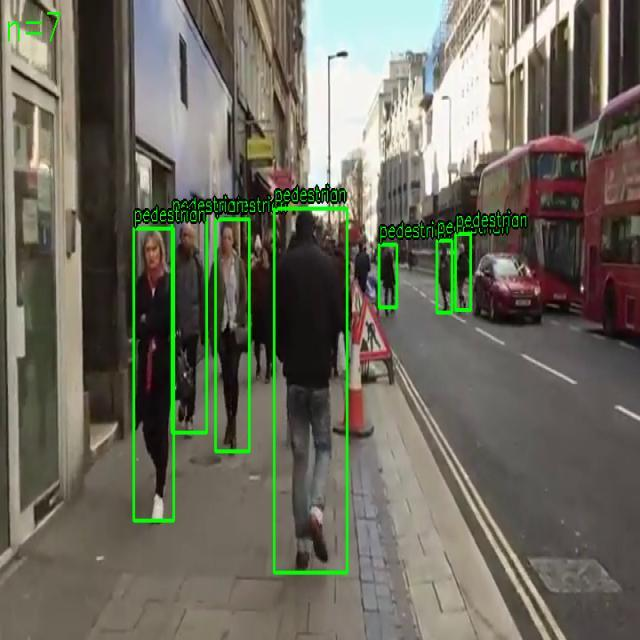with scooter: (274, 207, 348, 574), (134, 228, 174, 522), (215, 219, 250, 452), (172, 218, 207, 434), (455, 233, 471, 311), (379, 244, 397, 308), (437, 240, 452, 314)
